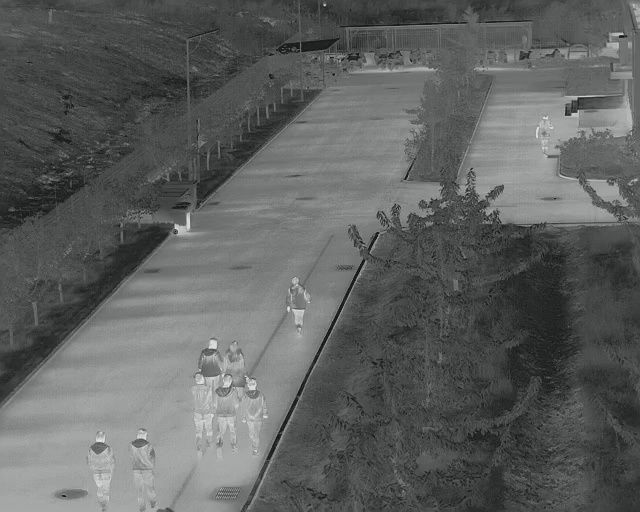person: (130, 428, 159, 509), (89, 431, 115, 511), (243, 378, 269, 456), (216, 375, 237, 458), (193, 372, 213, 456), (287, 276, 310, 337), (198, 338, 223, 375), (224, 341, 248, 379), (536, 117, 551, 157)
